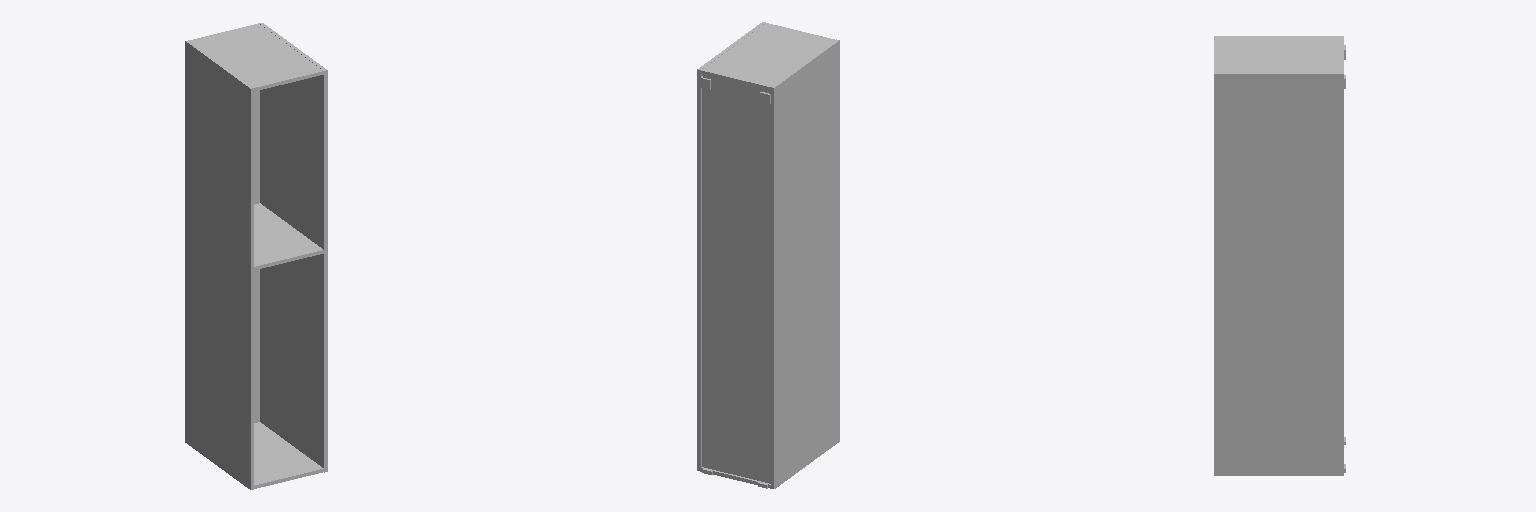
The model's file is IKEA.ART.90212559.obj.
The picture shows the model from 3 angles: view 1: azimuth 30°, elevation 25°; view 2: azimuth 150°, elevation 25°; view 3: azimuth 270°, elevation 25°; orthographic projection.
Visible parts, largest first — view 1: model_model.021; view 2: model_model.021; view 3: model_model.021.
Part boxes in pixels (x1,y1,x2,y2): model_model.021: (185,23,327,489); model_model.021: (697,22,839,488); model_model.021: (1214,36,1345,475).
Size of the model in its own units: 0.4 by 2 by 0.6.